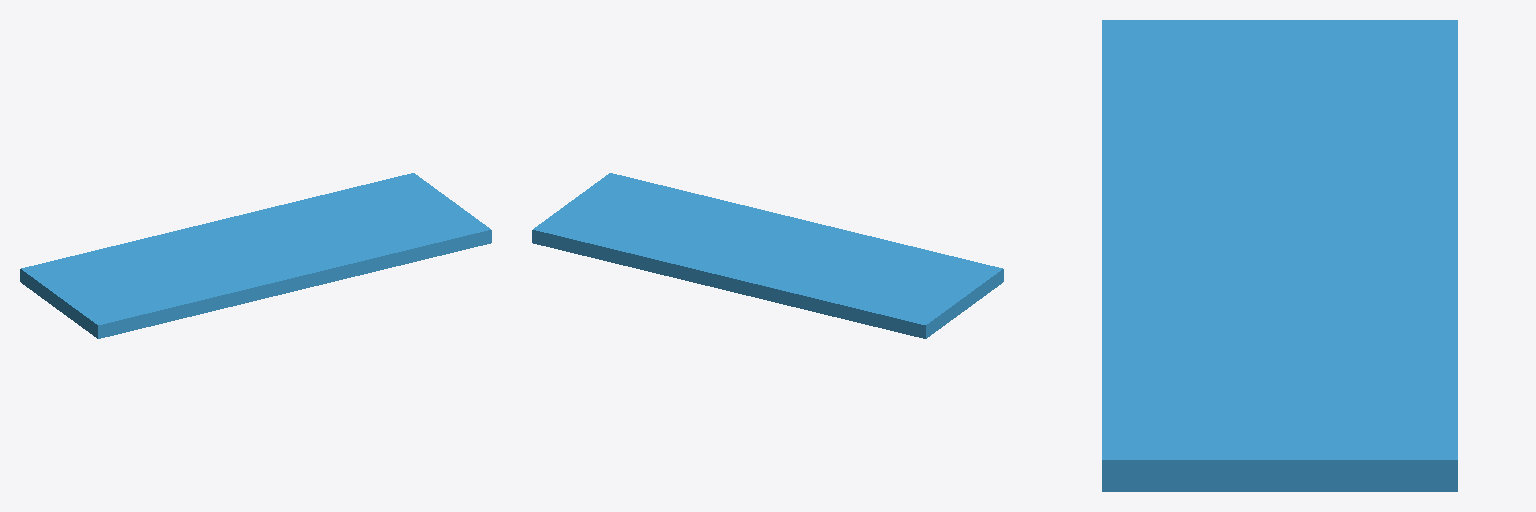
URDF robot description (cylinder_98):
    
    <robot name="cylinder_98">
        <link name="cylinder_98">    
            <fem>
                <origin rpy="0.0 0.0 0.0" xyz="0 0 0" />
                <density value="100" />
                <youngs value="3939"/>
                <poissons value="0.3" />
                <damping value="0.0" />
                <attachDistance value="0.01" />
                <tetmesh filename="[local-path]/sim_data/Custom/Custom_mesh/multi_cylinder_5kPa/cylinder_98.tet" />
                <scale value="0.5"/>
            </fem>
        </link>

        <link name="fix_frame">
            <visual>
                <origin xyz="0.0 0.0 10.093179248876554"/>
                <geometry>
                    <box size="0.15 0.0513058980995483 0.005"/>
                </geometry>
            </visual>
            <collision>
                <origin xyz="0.0 0.0 0.09317924887655465"/>
                <geometry>
                    <box size="0.15 0.0513058980995483 0.005"/>
                </geometry>
            </collision>
            <inertial>
                <mass value="500000"/>
                <inertia ixx="0.05" ixy="0.0" ixz="0.0" iyy="0.05" iyz="0.0" izz="0.05"/>
            </inertial>
        </link>
        
        <joint name = "attach" type = "fixed">
            <origin xyz = "0.0 0.0 0.0" rpy = "0 0 0"/>
            <parent link ="cylinder_98"/>
            <child link = "fix_frame"/>
        </joint>  




    </robot>
    

--- Render facts (derived) ---
Views: 3 orthographic renders of the robot side by side, from view 1: azimuth 30°, elevation 25°; view 2: azimuth 150°, elevation 25°; view 3: azimuth 270°, elevation 25°.
Robot: cylinder_98 — 2 links, 1 joints (1 fixed); root link cylinder_98; default pose: all joints at 0.
Visible links, largest first — view 1: fix_frame; view 2: fix_frame; view 3: fix_frame.
Boxes of the visible links, x1,y1,x2,y2 form: fix_frame: [20, 173, 491, 338]; fix_frame: [532, 173, 1003, 338]; fix_frame: [1102, 20, 1457, 491].
Bounding box of the posed robot: 0.15 × 0.0513 × 0.005 m (x, y, z).
Geometry: primitives only (box / cylinder / sphere), no mesh files.